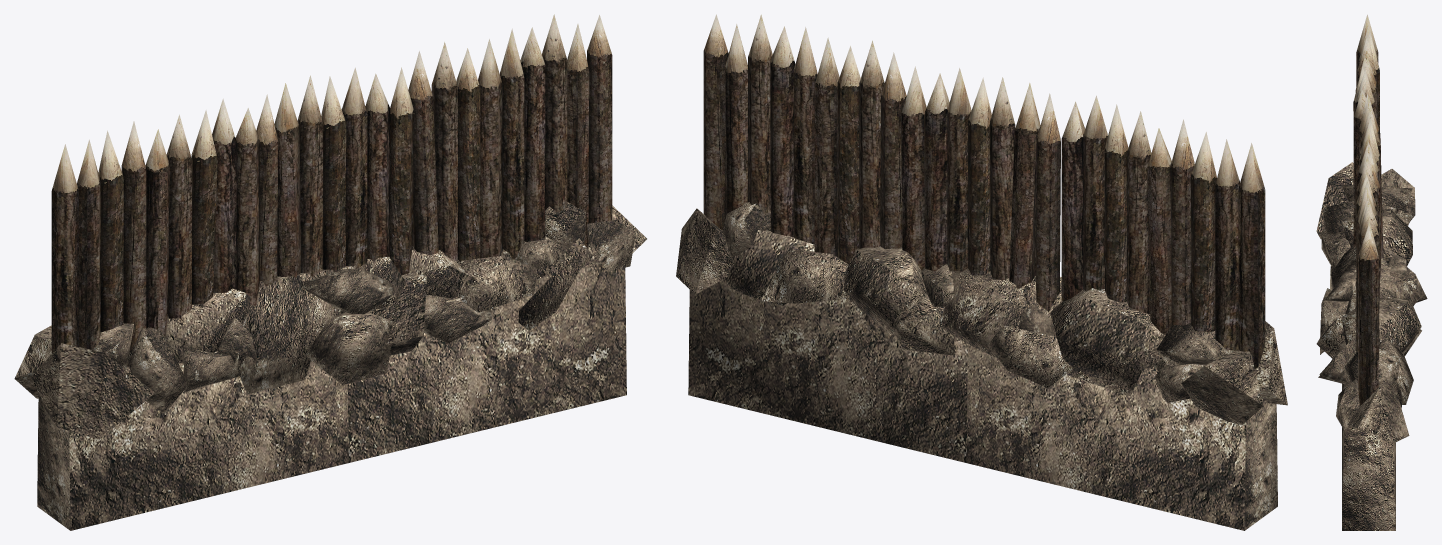
File: palisade_long.glb
3 views of the same model, side by side, from view 1: azimuth 30°, elevation 25°; view 2: azimuth 150°, elevation 25°; view 3: azimuth 270°, elevation 25° (orthographic). The views are drawn at different scales.
Size of the model in its own units: 15.57 by 9.37 by 3.05.
Materials: 1 (1 with a texture image).
